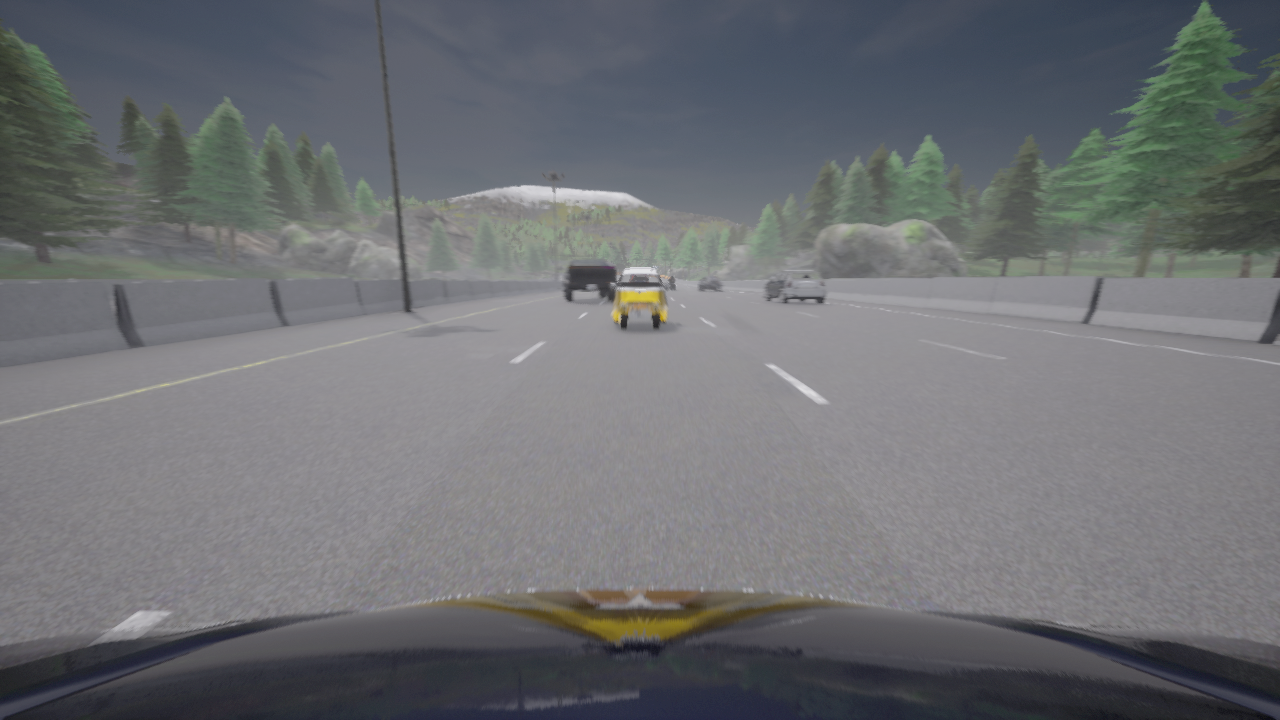cyclist: (0, 588, 1279, 719), (610, 268, 669, 329), (562, 259, 616, 301), (764, 270, 826, 303), (698, 276, 722, 290), (670, 280, 673, 289)
